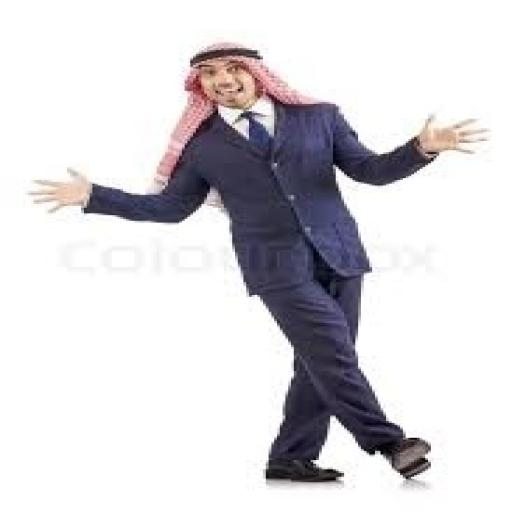dancing: (25, 39, 495, 486)
